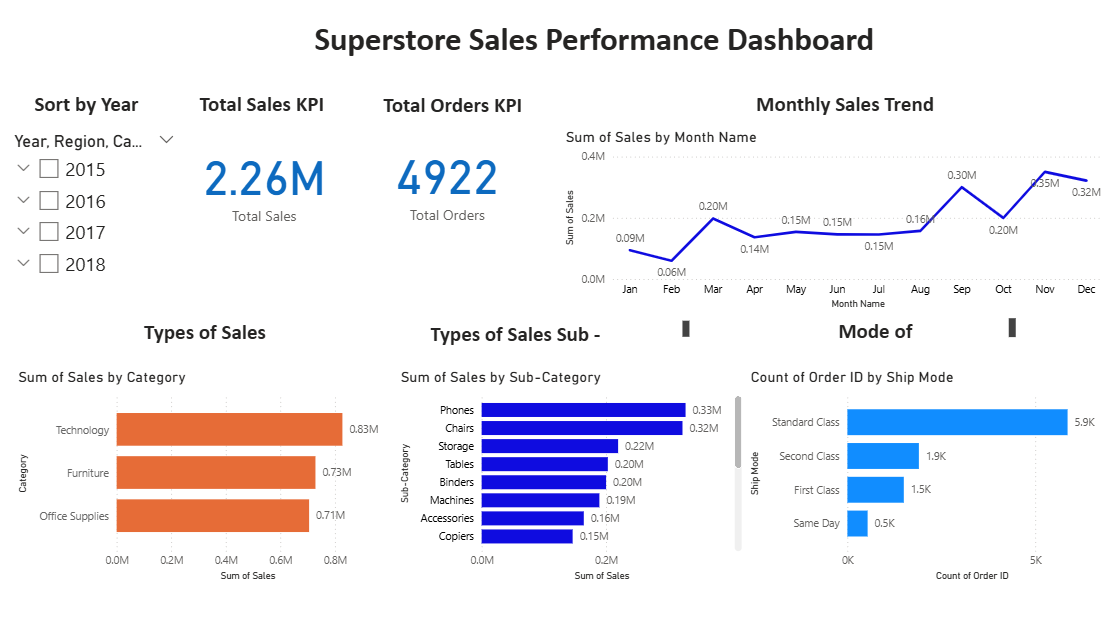

The dashboard page shown, as its layout file describes it:
{"tool":"powerbi","page":{"name":"Page 1","canvas":[1280,720],"ordinal":0},"visuals":[{"type":"card","fields":{"Values":["cleaned_superstore.Total Sales"]},"box":[205.7,147.1,205.7,124.3],"z":0},{"type":"lineChart","fields":{"Y":["Sum(cleaned_superstore.Sales)"],"Category":["cleaned_superstore.Month Name"]},"box":[641.4,147.1,624.3,212.9],"z":1000},{"type":"clusteredBarChart","fields":{"Y":["Sum(cleaned_superstore.Sales)"],"Category":["cleaned_superstore.Category"]},"box":[15.7,421.4,437.1,248.6],"z":2000},{"type":"textbox","box":[222.9,100,170,45.7],"z":3000},{"type":"textbox","box":[835.7,100,260,45.7],"z":4000},{"type":"textbox","box":[130,360,208.6,45.7],"z":5000},{"type":"slicer","fields":{"Values":["cleaned_superstore.Year","cleaned_superstore.Region","cleaned_superstore.Category"]},"box":[2.9,147.1,208.6,187.1],"z":6000},{"type":"clusteredBarChart","fields":{"Category":["cleaned_superstore.Sub-Category"],"Y":["Sum(cleaned_superstore.Sales)"]},"box":[452.9,421.4,400,248.6],"z":7000},{"type":"clusteredBarChart","fields":{"Category":["cleaned_superstore.Ship Mode"],"Y":["CountNonNull(cleaned_superstore.Order ID)"]},"box":[852.9,421.4,412.9,248.6],"z":8000},{"type":"card","fields":{"Values":["cleaned_superstore.Total Orders"]},"box":[417.1,145.7,188.6,124.3],"z":9000},{"type":"textbox","box":[432.9,101.4,207.1,45.7],"z":10000},{"type":"textbox","box":[34.3,100,160,45.7],"z":10001},{"type":"textbox","box":[354.3,18.6,661.4,62.9],"z":10002},{"type":"textbox","box":[487.1,362.9,305.7,42.9],"z":10003},{"type":"textbox","box":[952.9,360,212.9,45.7],"z":10004}]}

Visuals, with their boxes in screenshot pixels (x1, y1, x2, y2), scaled from the page's 1280x720 canvas onto the 1117x627 screenshot:
card - cleaned_superstore.Total Sales: left=180, top=128, right=359, bottom=236
lineChart - Sum(cleaned_superstore.Sales) x cleaned_superstore.Month Name: left=560, top=128, right=1105, bottom=314
clusteredBarChart - Sum(cleaned_superstore.Sales) x cleaned_superstore.Category: left=14, top=367, right=395, bottom=583
textbox: left=195, top=87, right=343, bottom=127
textbox: left=729, top=87, right=956, bottom=127
textbox: left=113, top=314, right=295, bottom=353
slicer - cleaned_superstore.Year x cleaned_superstore.Region: left=3, top=128, right=185, bottom=291
clusteredBarChart - cleaned_superstore.Sub-Category x Sum(cleaned_superstore.Sales): left=395, top=367, right=744, bottom=583
clusteredBarChart - cleaned_superstore.Ship Mode x CountNonNull(cleaned_superstore.Order ID): left=744, top=367, right=1105, bottom=583
card - cleaned_superstore.Total Orders: left=364, top=127, right=529, bottom=235
textbox: left=378, top=88, right=558, bottom=128
textbox: left=30, top=87, right=170, bottom=127
textbox: left=309, top=16, right=886, bottom=71
textbox: left=425, top=316, right=692, bottom=353
textbox: left=832, top=314, right=1017, bottom=353
